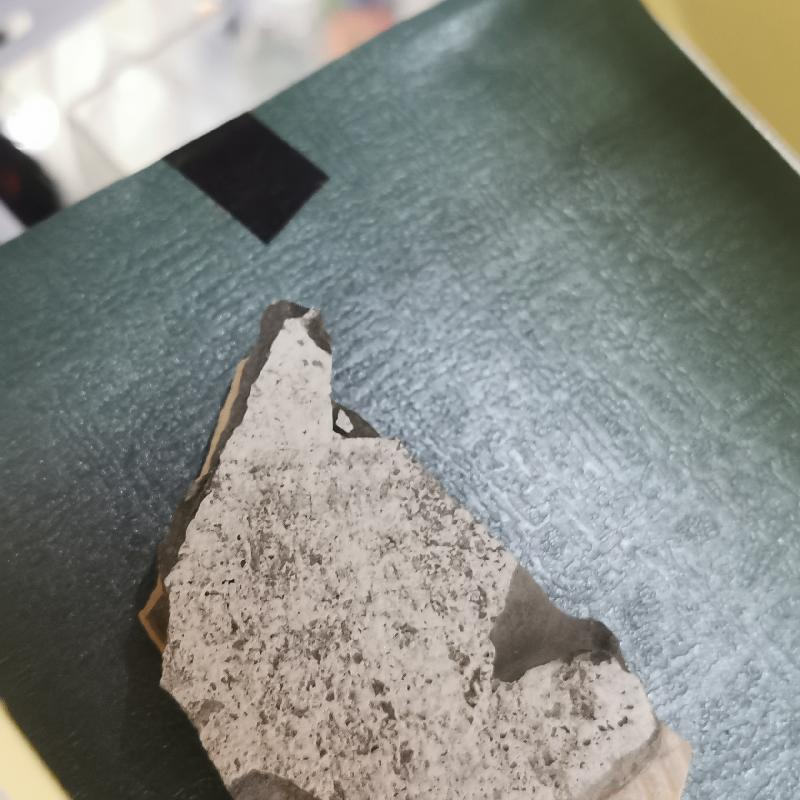tile: (121, 296, 699, 800)
